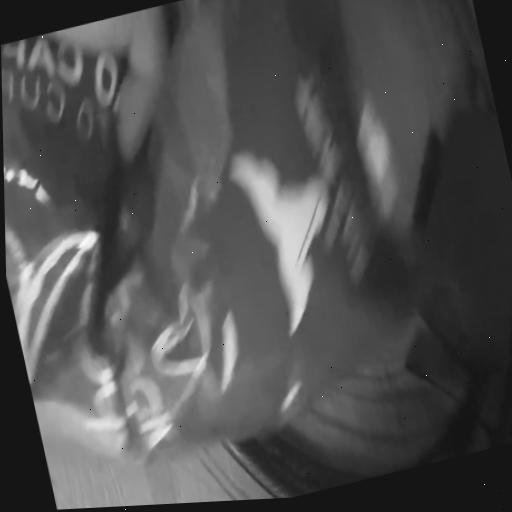cafe_xay: (1, 0, 425, 463)
